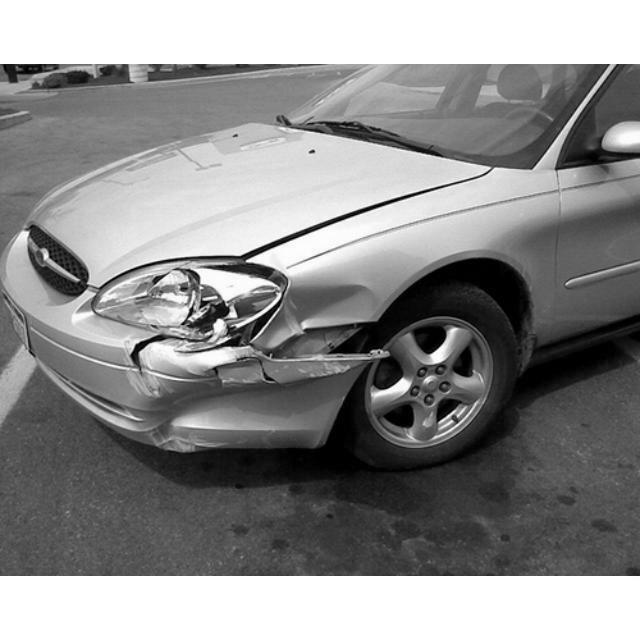Headlight-damage: (166, 255, 290, 360)
fender-dent: (253, 250, 390, 375)
front-bumper-dent: (87, 333, 370, 447)
